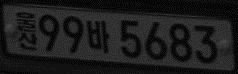3: (194, 24, 218, 64)
5: (119, 19, 142, 59)
6: (144, 21, 168, 60)
8: (167, 21, 192, 62)
9: (62, 14, 85, 53), (38, 13, 60, 51)
바: (86, 19, 110, 53)
울산_V: (15, 10, 38, 51)
